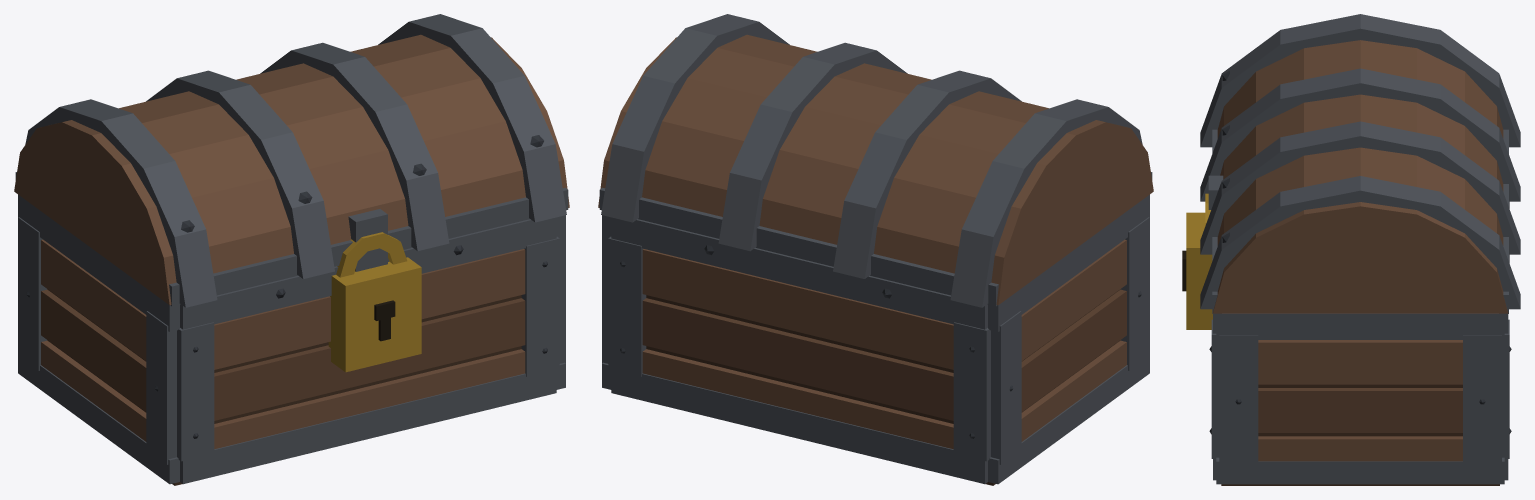
The model's file is treasure-chest-373a2e.glb.
The picture shows the model from 3 angles, left to right: view 1: azimuth 30°, elevation 25°; view 2: azimuth 150°, elevation 25°; view 3: azimuth 270°, elevation 25°; orthographic projection. The views are drawn at different scales.
Visible parts, largest first — view 1: lid-mesh, chest-body, padlock-mesh; view 2: lid-mesh, chest-body; view 3: lid-mesh, chest-body, padlock-mesh.
Part boxes in pixels (<box>): lid-mesh: <box>14,14,569,307</box>; chest-body: <box>18,194,565,485</box>; padlock-mesh: <box>328,232,421,372</box>; lid-mesh: <box>598,14,1153,307</box>; chest-body: <box>602,194,1149,485</box>; lid-mesh: <box>1200,14,1520,313</box>; chest-body: <box>1209,201,1511,485</box>; padlock-mesh: <box>1182,193,1212,329</box>.
Bounding box in the file's own units: 0.634 × 0.468 × 0.486.
